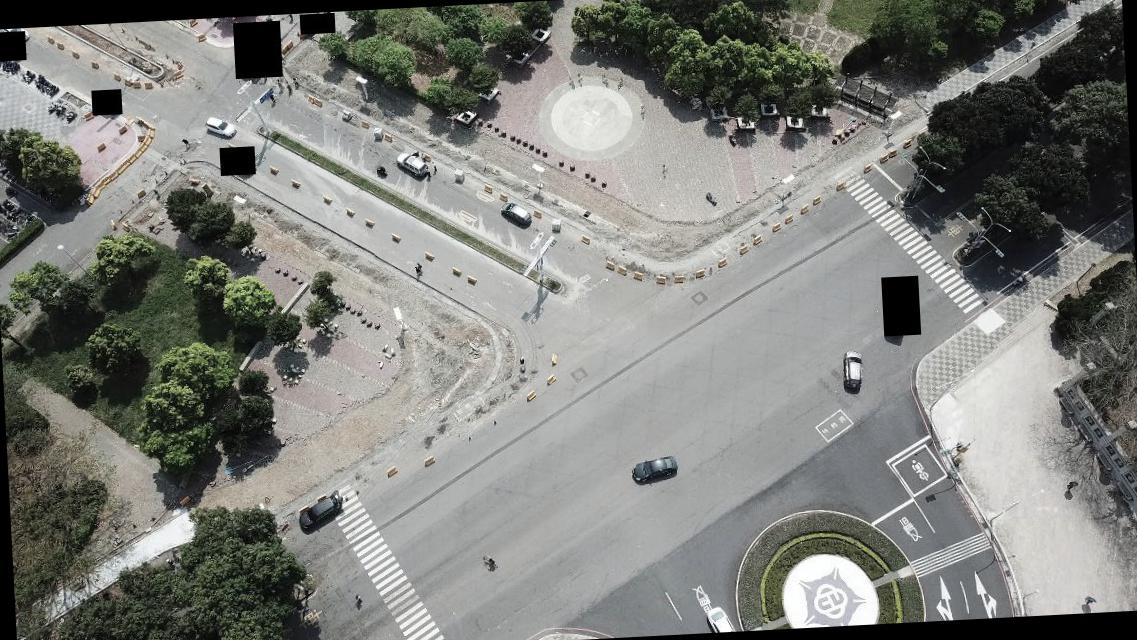vehicle: (296, 494, 342, 530), (630, 456, 678, 484), (702, 604, 736, 634), (841, 350, 864, 390), (396, 152, 427, 180), (204, 115, 236, 139), (500, 202, 531, 226), (1, 29, 30, 44)
